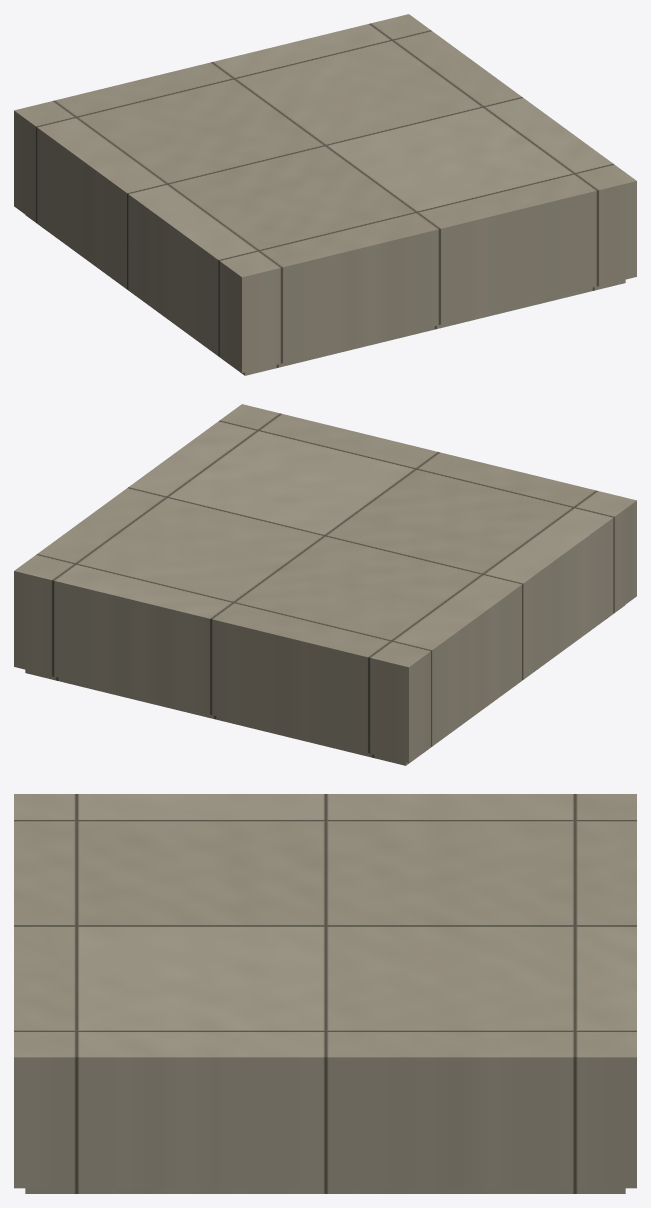
The model's file is tile-floor.glb.
The picture shows the model from 3 angles, top to bottom: view 1: azimuth 30°, elevation 25°; view 2: azimuth 150°, elevation 25°; view 3: azimuth 270°, elevation 25°; orthographic projection. The views are drawn at different scales.
Parts seen in each view (by area): view 1: FloorPanel.007; view 2: FloorPanel.007; view 3: FloorPanel.007.
Boxes of the visible parts, bbox=[...] form: FloorPanel.007: bbox=[14, 14, 636, 375]; FloorPanel.007: bbox=[14, 404, 636, 765]; FloorPanel.007: bbox=[14, 794, 636, 1193].
Size of the model in its own units: 1 by 0.25 by 1.
1 material, 1 textured.
